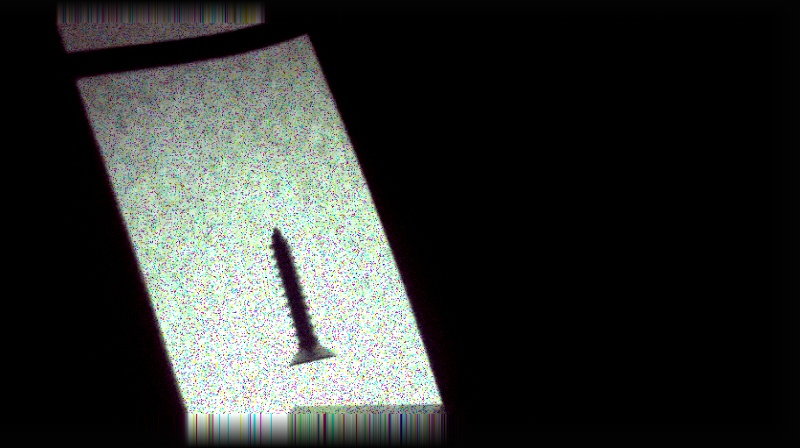S001: (265, 224, 341, 370)
